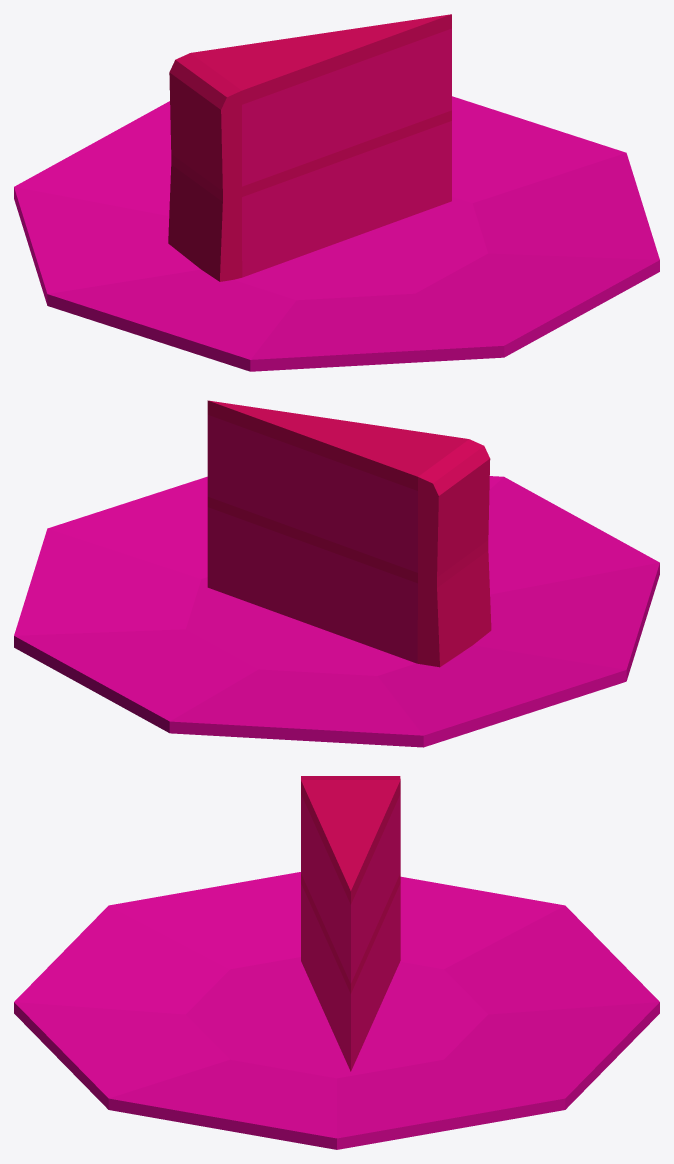
File: SliceOfCake_01.fbx
3 views of the same model, one above another, from view 1: azimuth 30°, elevation 25°; view 2: azimuth 150°, elevation 25°; view 3: azimuth 270°, elevation 25° (orthographic). The views are drawn at different scales.
Visible parts, largest first — view 1: SliceOfCake_01; view 2: SliceOfCake_01; view 3: SliceOfCake_01.
Part boxes in pixels (<box>): SliceOfCake_01: <box>14,14,659,371</box>; SliceOfCake_01: <box>14,400,659,747</box>; SliceOfCake_01: <box>14,776,659,1149</box>.
Bounding box in the file's own units: 9.1 × 3.13 × 9.1.
